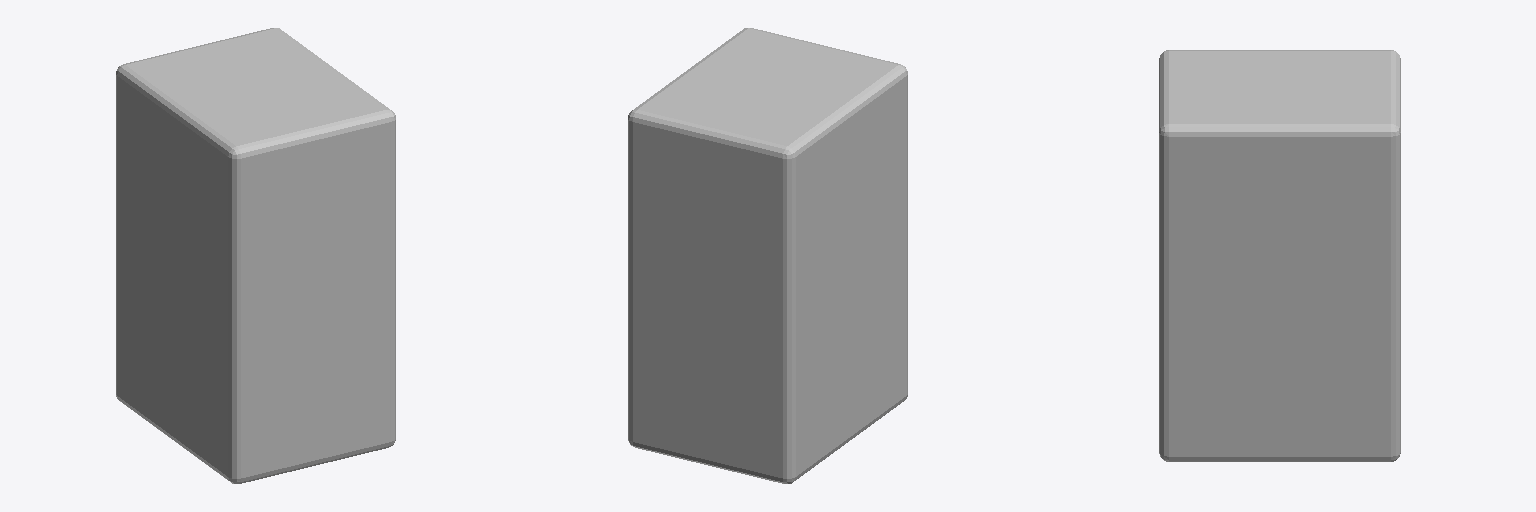
File: Claw Test.obj
3 views of the same model, side by side, from view 1: azimuth 30°, elevation 25°; view 2: azimuth 150°, elevation 25°; view 3: azimuth 270°, elevation 25° (orthographic).
Parts seen in each view (by area): view 1: polySurface1 Claw_Machine; view 2: polySurface1 Claw_Machine; view 3: polySurface1 Claw_Machine.
Boxes of the visible parts, x1,y1,x2,y2 form: polySurface1 Claw_Machine: [116, 28, 395, 483]; polySurface1 Claw_Machine: [628, 28, 907, 483]; polySurface1 Claw_Machine: [1159, 50, 1400, 461].
Size of the model in its own units: 4.11 by 7.95 by 5.16.